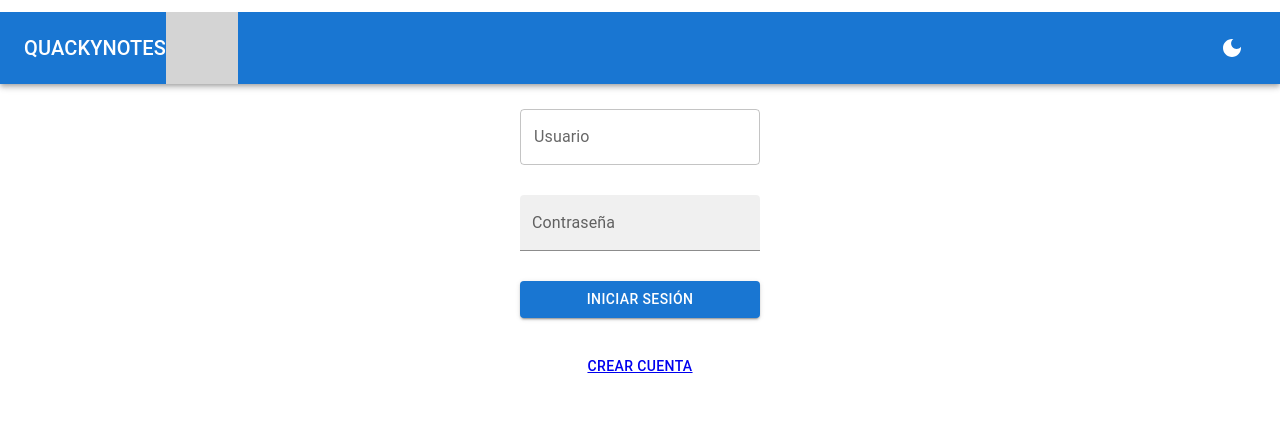
Test case: Login component › should display an error message for unrecognized email
Type "unrecognized@example.com" into the field labelled "Usuario". click: (640, 137)
box: [520,109,760,165]
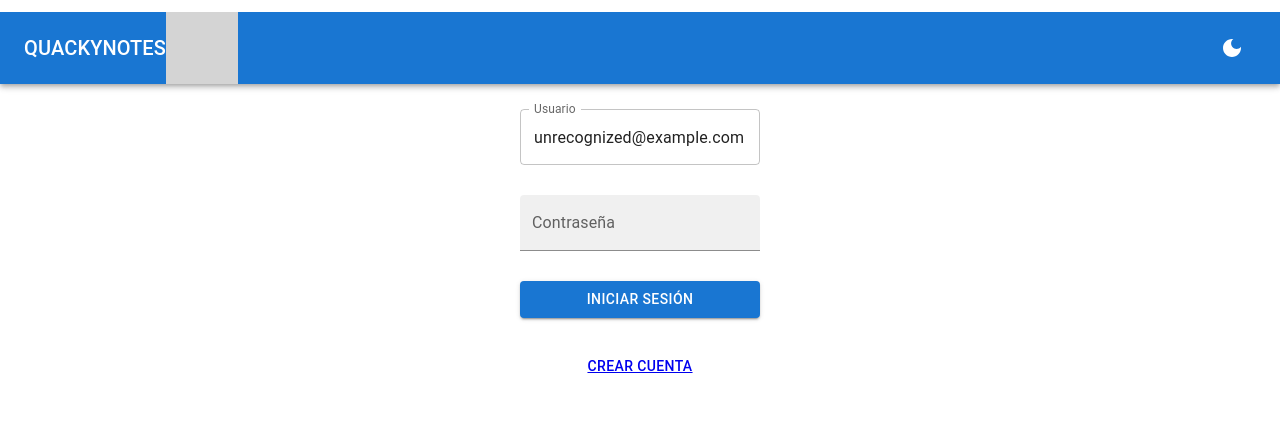
Type "password" into the password field labelled "Contraseña". click: (640, 223)
box: [520,195,760,251]
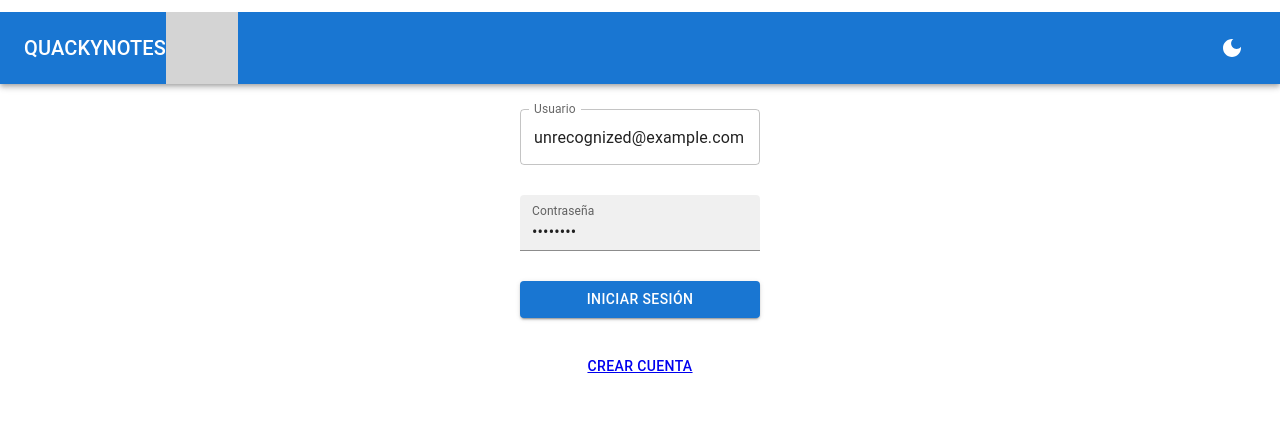
Click the button "Iniciar sesión". click: (640, 299)
box: [520,281,760,318]
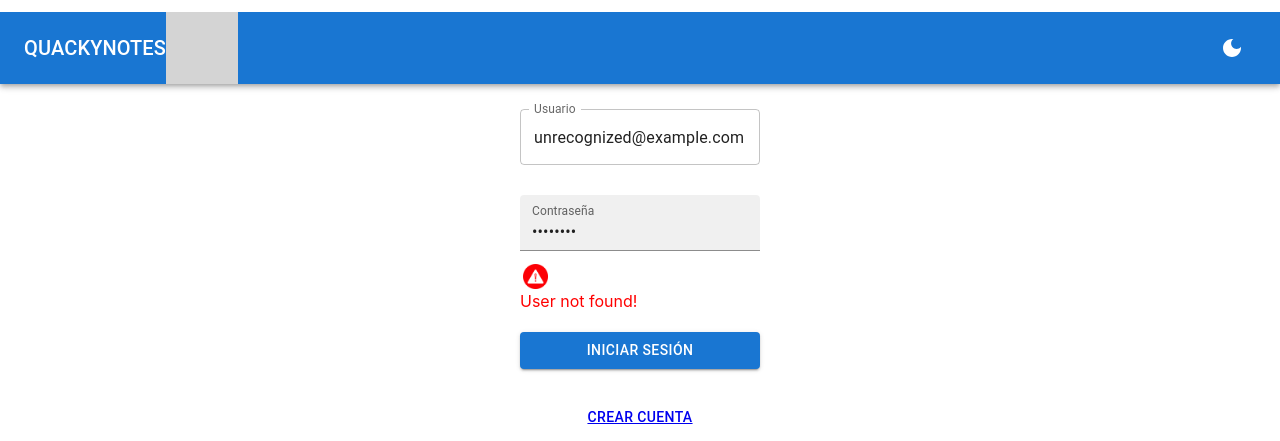
Check: the text "User not found!" is shown, box [520,291,637,311]
